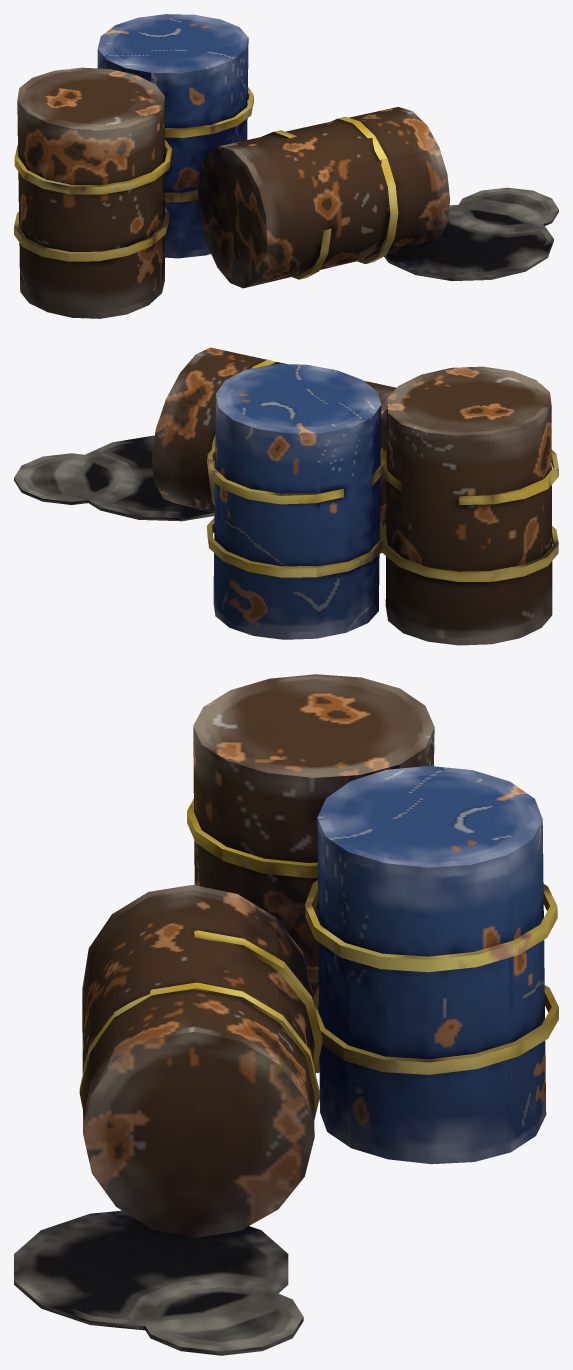
The model's file is Barrels.glb.
The picture shows the model from 3 angles, top to bottom: view 1: azimuth 30°, elevation 25°; view 2: azimuth 150°, elevation 25°; view 3: azimuth 270°, elevation 25°; orthographic projection. The views are drawn at different scales.
Parts seen in each view (by area): view 1: RustDrums, BlueDrum, Slick, Hoops; view 2: RustDrums, BlueDrum, Slick, Hoops; view 3: RustDrums, BlueDrum, Slick, Hoops.
Boxes of the visible parts, x1,y1,x2,y2 form: RustDrums: (17, 67, 450, 318); BlueDrum: (97, 14, 248, 258); Slick: (384, 187, 558, 280); Hoops: (14, 87, 398, 279); RustDrums: (151, 347, 552, 645); BlueDrum: (213, 364, 381, 639); Slick: (14, 435, 214, 521); Hoops: (207, 359, 558, 581); RustDrums: (82, 674, 434, 1237); BlueDrum: (317, 766, 546, 1164); Slick: (14, 1210, 303, 1355); Hoops: (79, 798, 558, 1119).
Size of the model in its own units: 3.91 by 1.42 by 2.32.
Materials: 4 (4 with a texture image).
